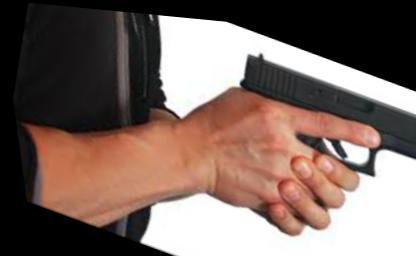pistol: (192, 35, 415, 255)
